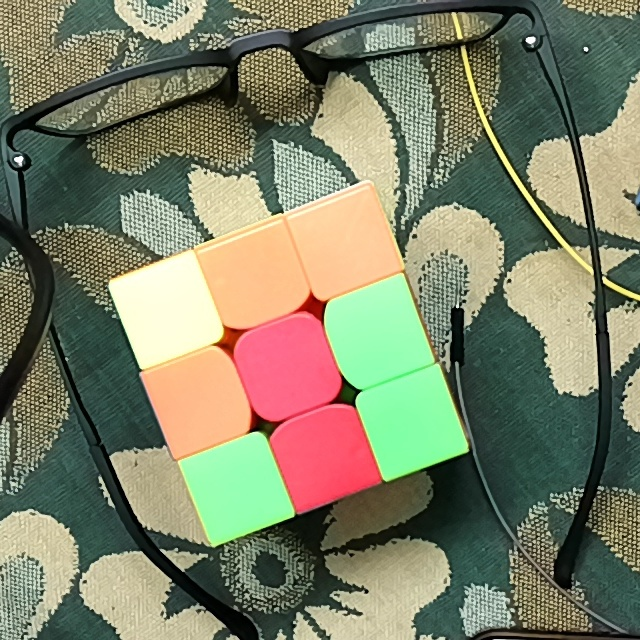tile: (252, 334, 324, 403), (130, 275, 201, 343), (162, 368, 234, 435), (309, 211, 382, 276), (379, 390, 447, 459), (291, 420, 359, 488), (223, 242, 290, 310), (346, 299, 411, 369), (207, 456, 271, 523)
